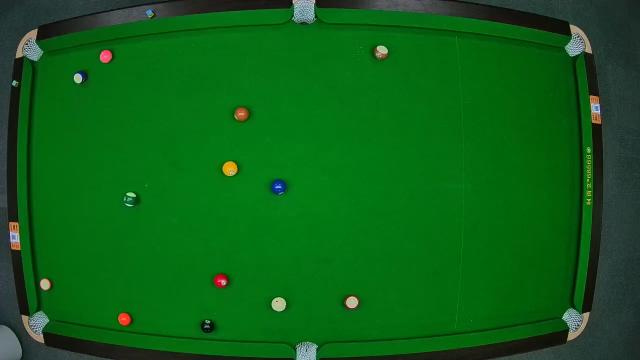bag1: (20, 38, 40, 60)
bag2: (292, 1, 316, 25)
bag3: (567, 35, 589, 57)
bag4: (29, 310, 49, 334)
bag5: (294, 340, 318, 360)
bag6: (562, 308, 582, 330)
ball0: (272, 296, 288, 312)
ball1: (222, 162, 238, 178)
ball10: (72, 70, 88, 84)
ball11: (344, 294, 361, 310)
ball12: (38, 278, 52, 294)
ball14: (122, 192, 138, 208)
ball15: (373, 44, 389, 60)
ball2: (269, 179, 287, 195)
ball3: (214, 272, 230, 288)
ball4: (98, 48, 114, 64)
ball5: (117, 310, 131, 326)
ball7: (234, 106, 250, 122)
ball8: (200, 318, 214, 334)
